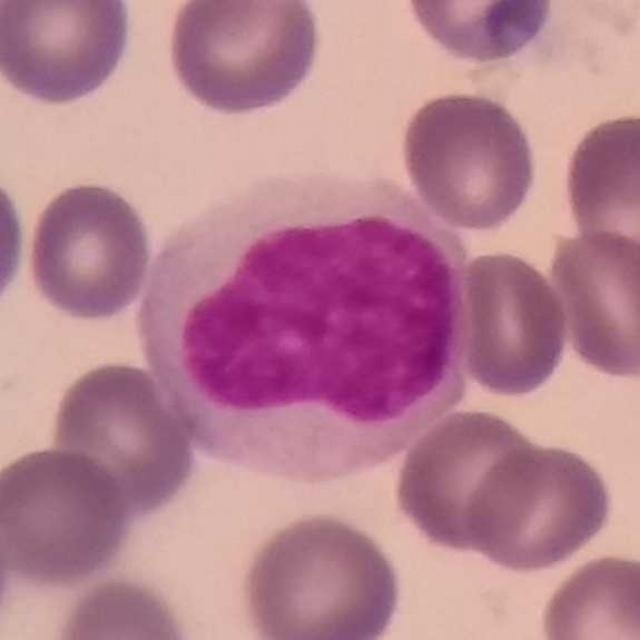mono: (142, 170, 479, 485)
